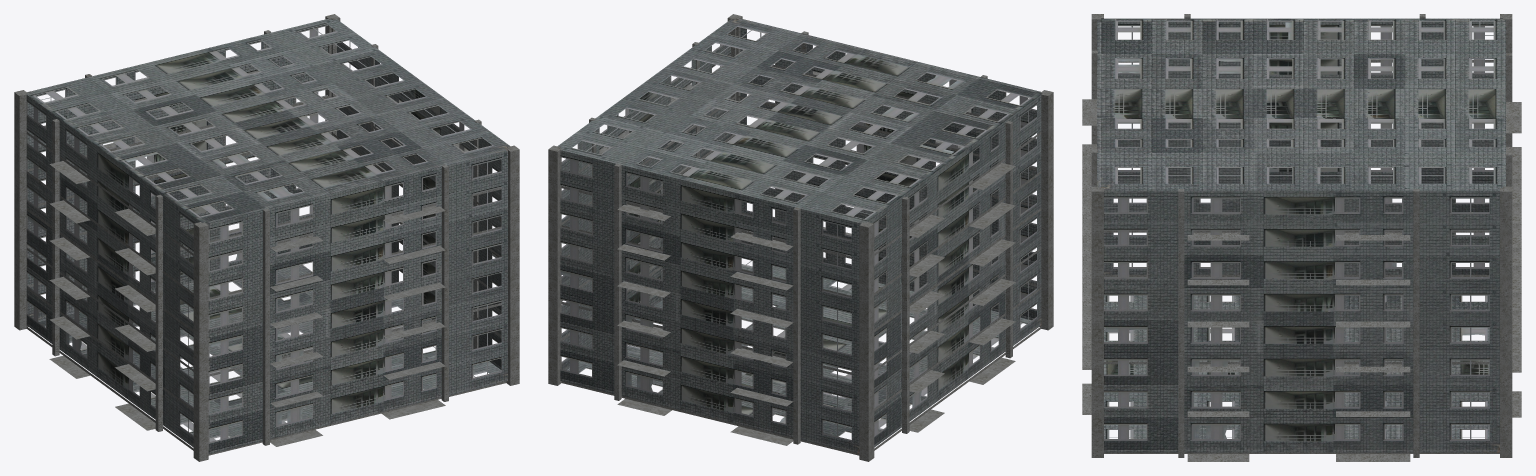
The model's file is BagSS07mid_200.fbx.
The picture shows the model from 3 angles, left to right: view 1: azimuth 30°, elevation 25°; view 2: azimuth 150°, elevation 25°; view 3: azimuth 270°, elevation 25°; orthographic projection. The views are drawn at different scales.
Parts seen in each view (by area): view 1: Box02, midCeilingsa300; view 2: Box02, midCeilingsa300; view 3: Box02, midCeilingsa300.
Part boxes in pixels (x1,y1,x2,y2): Box02: (26, 19, 510, 453); midCeilingsa300: (14, 14, 519, 461); Box02: (557, 18, 1041, 453); midCeilingsa300: (548, 14, 1053, 461); Box02: (1097, 18, 1505, 452); midCeilingsa300: (1082, 14, 1521, 461).
Bounding box in the file's own units: 34.08 × 22.8 × 34.08.
